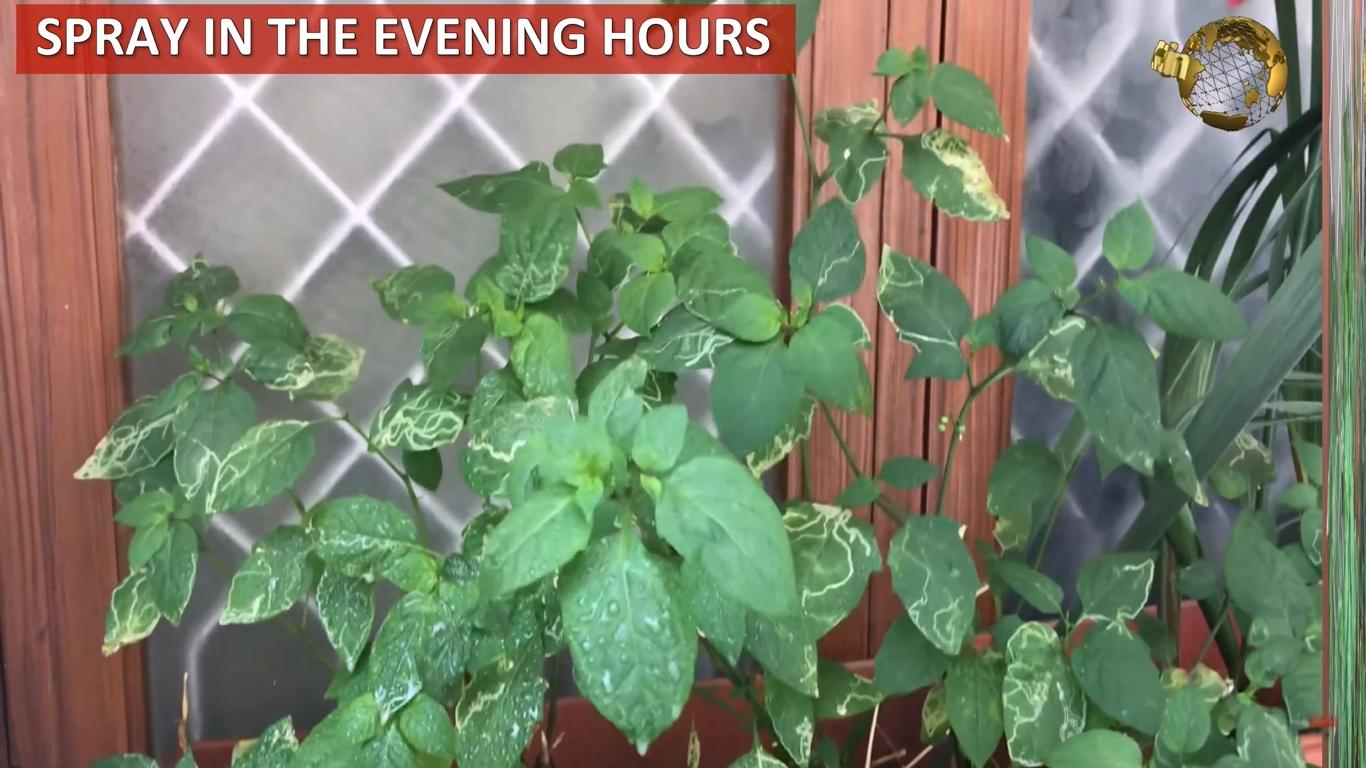Leaf_Miner: (782, 499, 884, 644), (456, 612, 546, 768), (888, 509, 981, 659), (999, 616, 1090, 768), (204, 412, 315, 516), (898, 124, 1013, 224), (172, 381, 257, 508), (875, 239, 972, 350), (217, 522, 318, 627), (493, 190, 578, 302), (72, 393, 175, 485), (462, 390, 582, 466), (788, 193, 868, 303), (366, 375, 470, 454), (747, 608, 822, 701), (632, 305, 736, 372), (1075, 544, 1160, 621), (285, 331, 372, 404), (744, 392, 817, 479), (146, 515, 202, 628), (317, 572, 377, 673), (100, 562, 162, 658), (1026, 315, 1092, 404), (762, 672, 820, 768), (1232, 701, 1309, 768), (826, 127, 892, 205), (818, 658, 886, 719), (239, 342, 315, 392), (823, 300, 872, 352), (1298, 509, 1326, 568)
